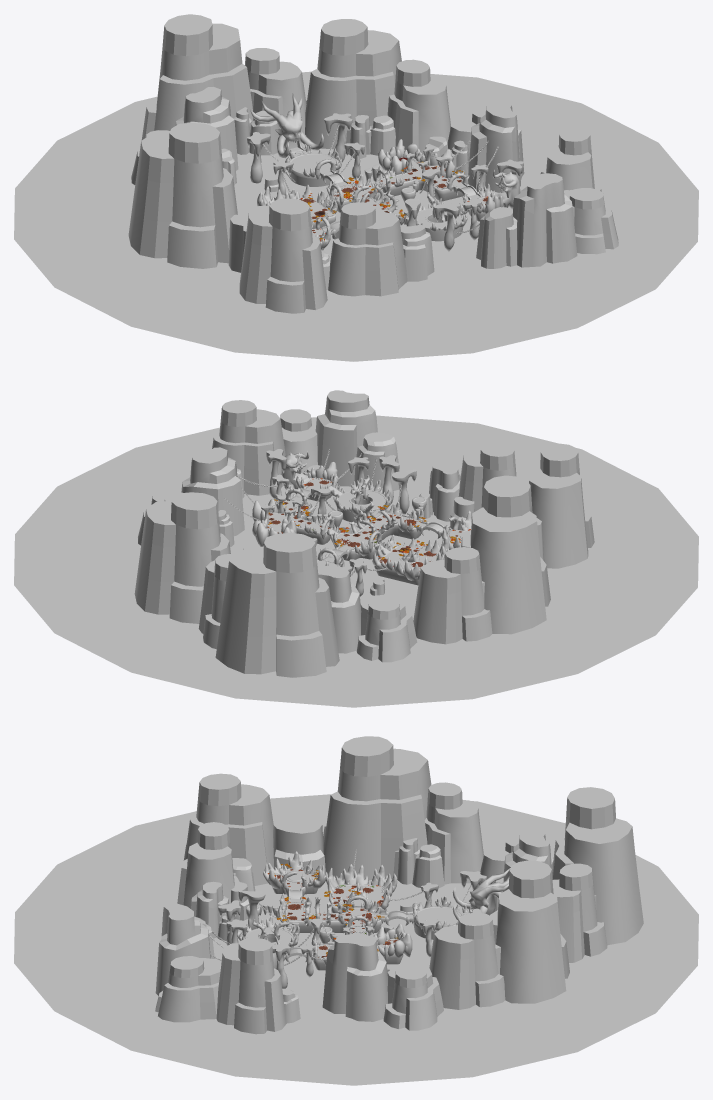
File: Demo_Scene_V2.FBX
The picture shows the model from 3 angles, top to bottom: view 1: azimuth 30°, elevation 25°; view 2: azimuth 150°, elevation 25°; view 3: azimuth 270°, elevation 25°; orthographic projection.
Visible parts, largest first — view 1: Cylinder001, rock_cliff_007, rock_cliff_009, rock_cliff_006, rock_cliff_016, rock_cliff_004, rock_cliff_015, rock_cliff_010, rock_cliff_012, rock_cliff_017, rock_cliff_014, rock_cliff_013 (+16 smaller); view 2: Cylinder001, rock_cliff_016, rock_cliff_007, rock_cliff_009, rock_cliff_01, rock_cliff_006, rock_cliff_013, rock_cliff_015, rock_cliff_008, rock_cliff_012, rock_cliff_02, rock_cliff_004 (+9 smaller); view 3: Cylinder001, rock_cliff_007, rock_cliff_009, rock_cliff_016, rock_cliff_010, rock_cliff_006, rock_cliff_013, rock_cliff_012, rock_cliff_01, rock_cliff_017, rock_cliff_014, rock_cliff_011 (+10 smaller).
Part boxes in pixels (box(x1,y1,x2,y2)): Cylinder001: box(14, 71, 698, 361); rock_cliff_007: box(128, 122, 237, 268); rock_cliff_009: box(305, 19, 401, 149); rock_cliff_006: box(239, 198, 327, 313); rock_cliff_016: box(141, 14, 253, 140); rock_cliff_004: box(328, 202, 407, 296); rock_cliff_015: box(513, 173, 577, 267); rock_cliff_010: box(387, 59, 450, 154); rock_cliff_012: box(468, 101, 524, 192); rock_cliff_017: box(245, 48, 306, 142); rock_cliff_014: box(564, 188, 618, 254); rock_cliff_013: box(540, 127, 601, 191); Cylinder001: box(14, 415, 698, 707); rock_cliff_016: box(215, 532, 339, 677); rock_cliff_007: box(461, 475, 550, 634); rock_cliff_009: box(134, 492, 230, 623); rock_cliff_01: box(413, 547, 492, 644); rock_cliff_006: box(529, 443, 594, 568); rock_cliff_013: box(212, 400, 285, 495); rock_cliff_015: box(315, 390, 377, 486); rock_cliff_008: box(356, 594, 417, 662); rock_cliff_012: box(181, 447, 244, 536); rock_cliff_02: box(317, 566, 361, 653); rock_cliff_004: box(458, 443, 521, 511); Cylinder001: box(14, 794, 698, 1085); rock_cliff_007: box(323, 736, 431, 880); rock_cliff_009: box(490, 860, 569, 1003); rock_cliff_016: box(552, 787, 643, 945); rock_cliff_010: box(429, 912, 505, 1009); rock_cliff_006: box(183, 773, 273, 885); rock_cliff_013: box(216, 937, 286, 1034); rock_cliff_012: box(322, 934, 387, 1021); rock_cliff_01: box(424, 782, 483, 884); rock_cliff_017: box(552, 863, 607, 962); rock_cliff_014: box(155, 956, 221, 1022); rock_cliff_011: box(383, 963, 443, 1030).
Size of the model in its own units: 20080 by 4025 by 19802.
